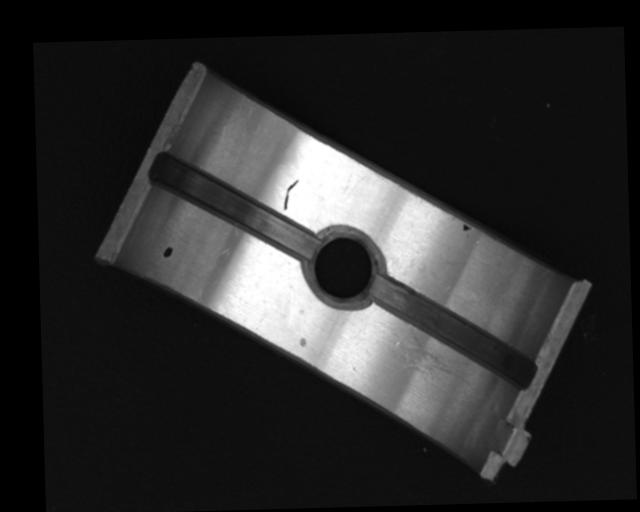blot: (161, 244, 173, 259), (461, 222, 471, 232)
bruise: (298, 334, 307, 347)
gap: (370, 270, 534, 392), (156, 151, 314, 265)
hole: (306, 226, 383, 306)
nick: (281, 179, 299, 211)
scratch: (395, 322, 472, 389)
